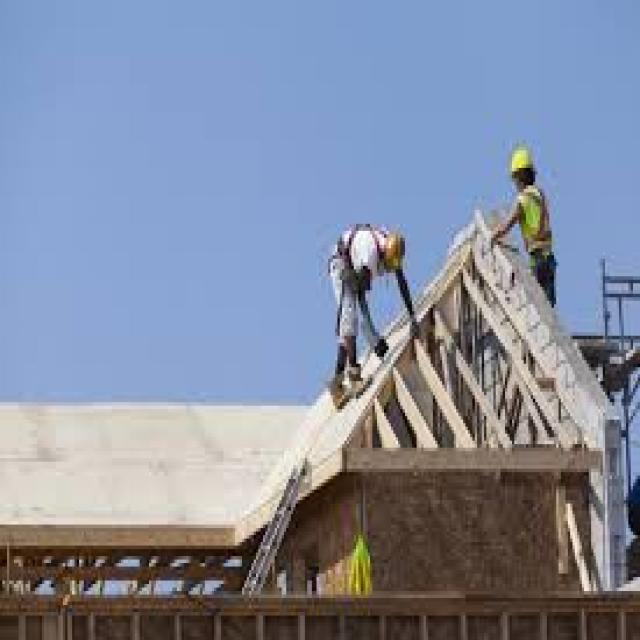Safety-Helmet: (500, 133, 542, 189), (384, 228, 410, 274)
